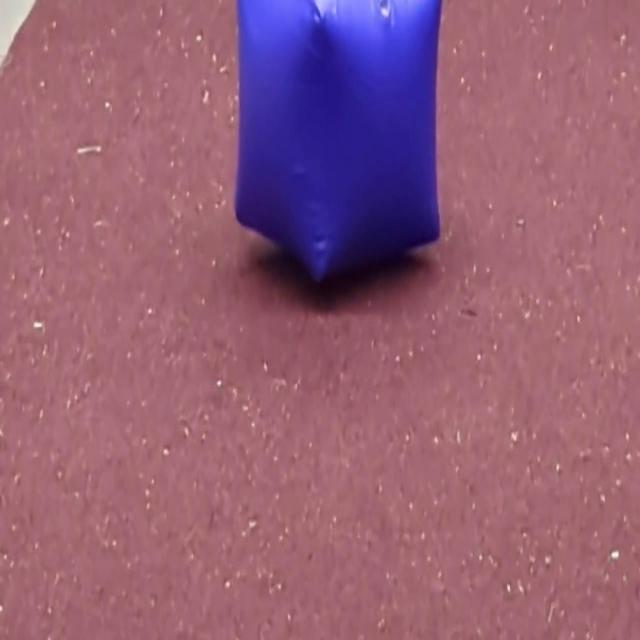frc_cube: (232, 0, 444, 295)
